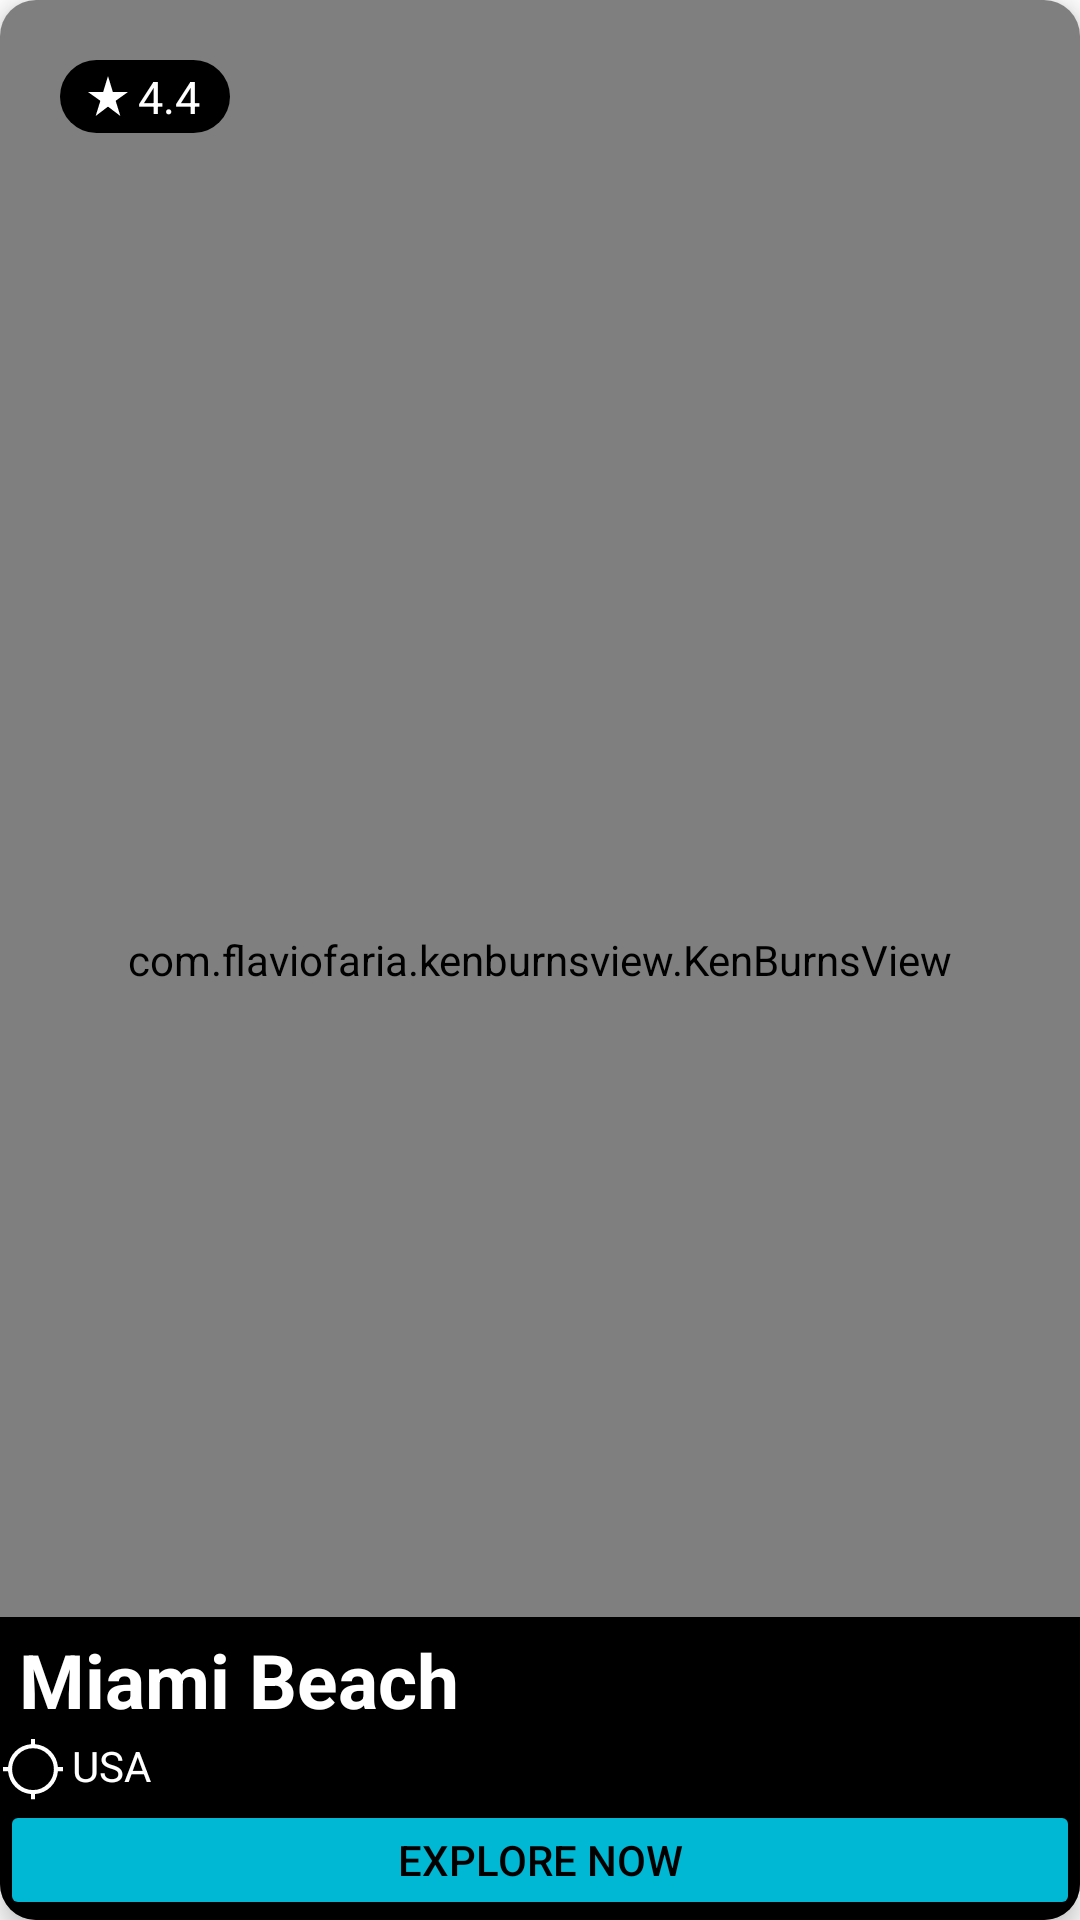

Locate icon controls on the screen. Image size 1080px x 1920px, boxes as (x1, y1, x2, y2).
starrate: (88, 76, 128, 116)
